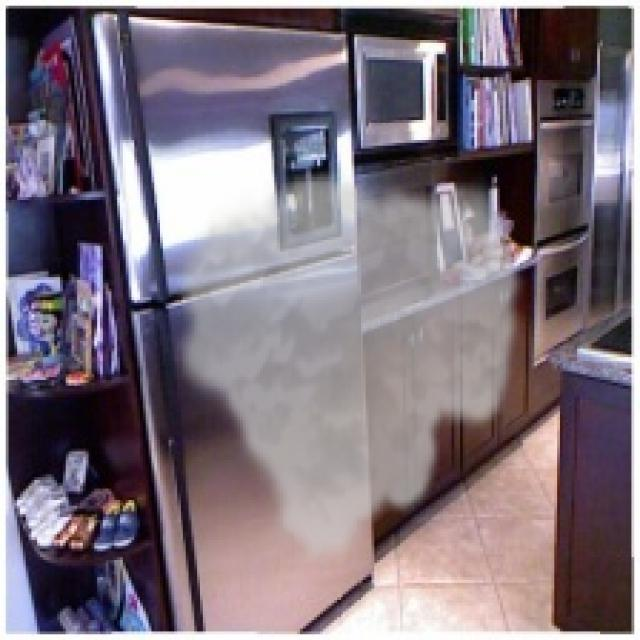smoke: (166, 166, 528, 568)
